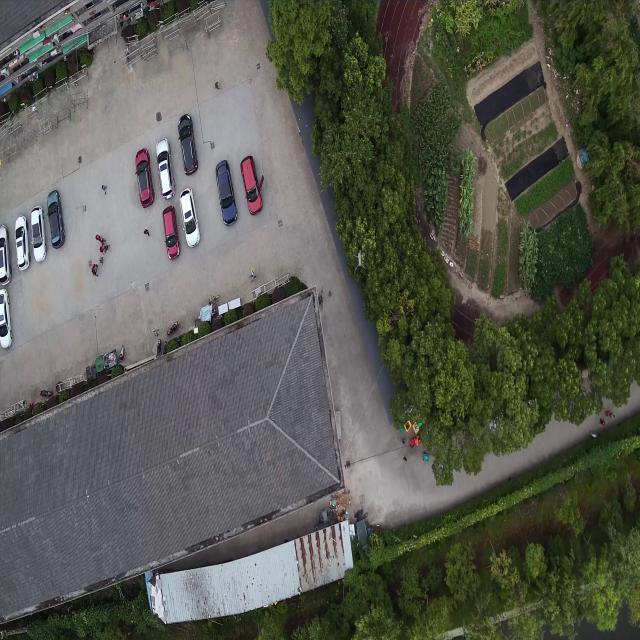UAV: (353, 251, 365, 270)
